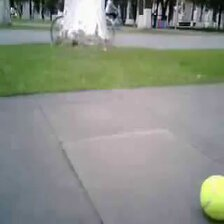tennis: (200, 175, 224, 220)
